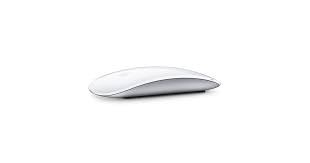mouse: (86, 65, 226, 100)
